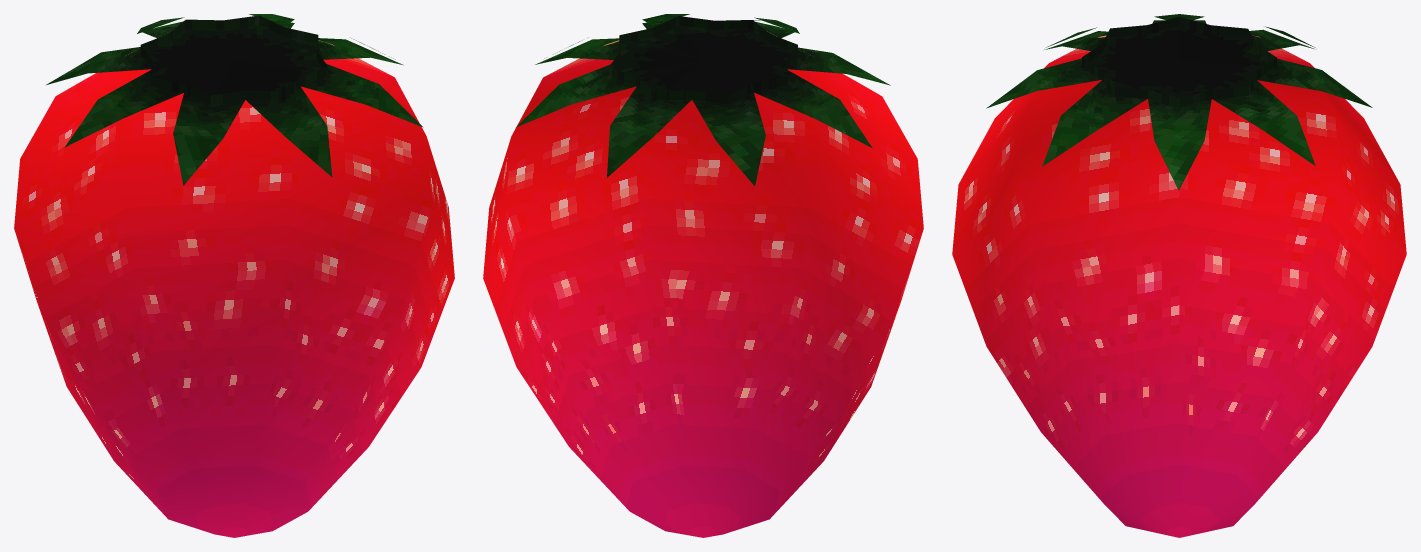
File: ps2_save-icons_deadoralive2hardcore-jp.glb
The picture shows the model from 3 angles, left to right: view 1: azimuth 30°, elevation 25°; view 2: azimuth 150°, elevation 25°; view 3: azimuth 270°, elevation 25°; orthographic projection.
Parts seen in each view (by area): view 1: slime1.ico; view 2: slime1.ico; view 3: slime1.ico.
Part boxes in pixels (left/top/right/bottom): slime1.ico: left=14, top=14, right=454, bottom=537; slime1.ico: left=483, top=14, right=923, bottom=537; slime1.ico: left=952, top=14, right=1406, bottom=537.
Bounding box in the file's own units: 2.85 × 3.36 × 2.85.
1 material, 1 textured.
